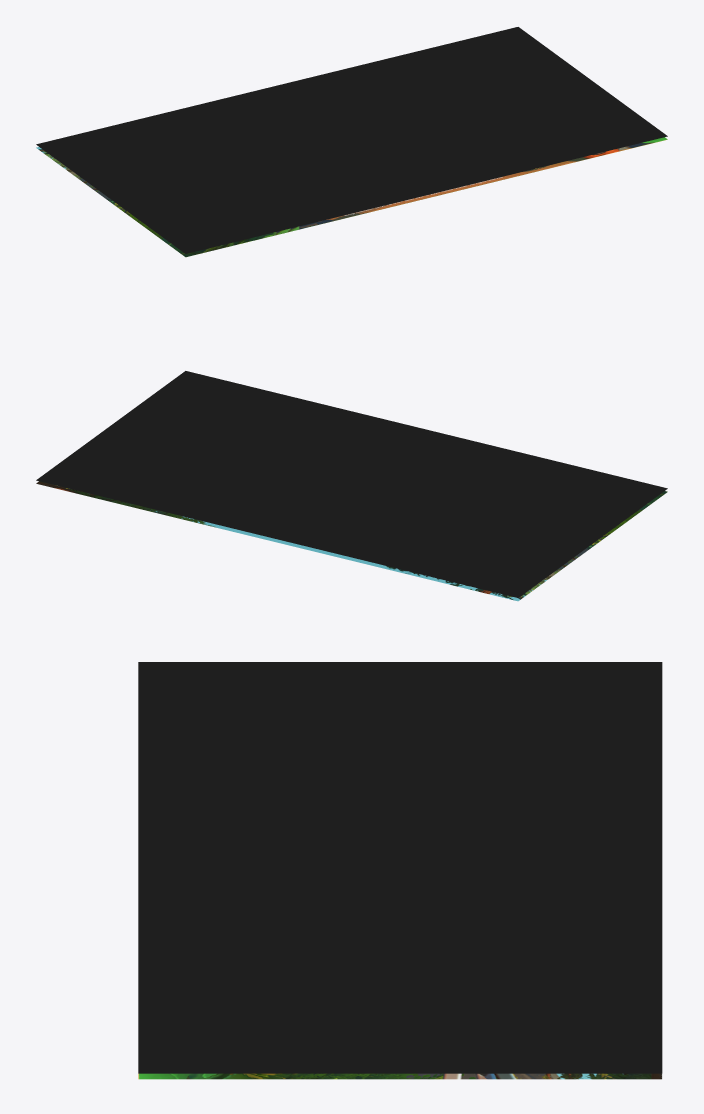
Rendered from Fit_XianShiQi_off.FBX.
3 renders of one model, top to bottom at view 1: azimuth 30°, elevation 25°; view 2: azimuth 150°, elevation 25°; view 3: azimuth 270°, elevation 25°, orthographic. The views are drawn at different scales.
Visible parts, largest first — view 1: Box005; view 2: Box005; view 3: Box005.
Boxes of the visible parts, x1,y1,x2,y2 form: Box005: [36, 27, 667, 257]; Box005: [36, 371, 667, 601]; Box005: [138, 662, 662, 1079].
Bounding box in the file's own units: 4.56 × 1.07 × 3.
